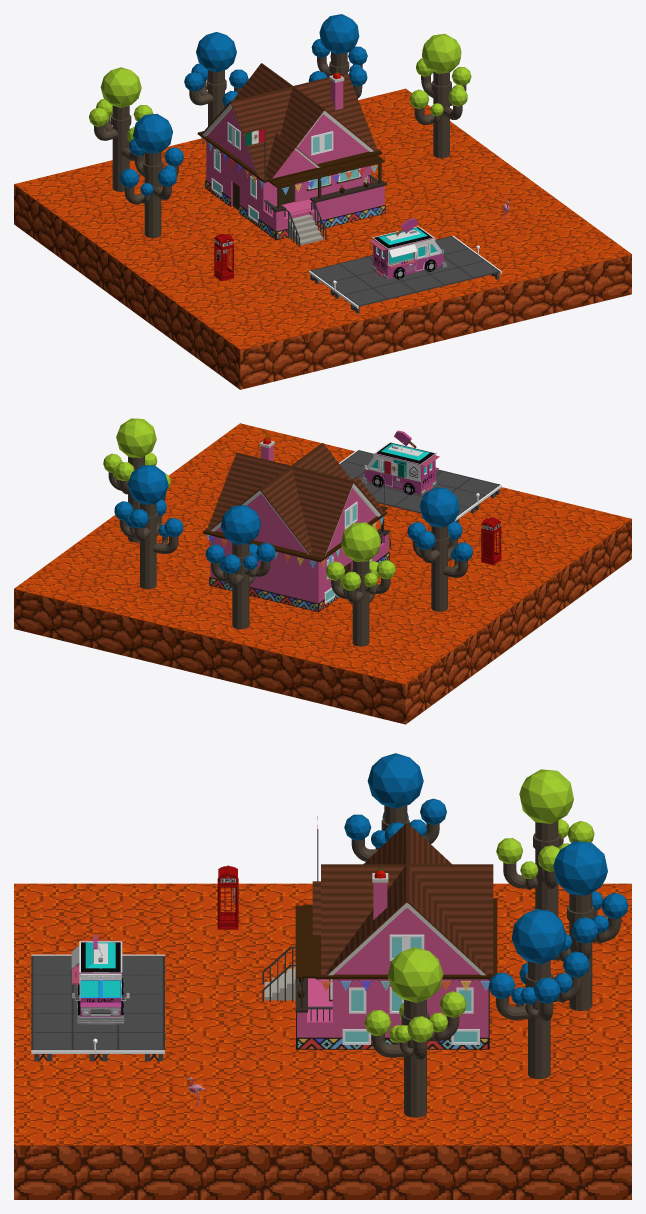
The picture shows the model from 3 angles, top to bottom: view 1: azimuth 30°, elevation 25°; view 2: azimuth 150°, elevation 25°; view 3: azimuth 270°, elevation 25°; orthographic projection. The views are drawn at different scales.
Visible parts, largest first — view 1: Cube.001, Cube.1005, VEHICLES_ICE_CREAM_TRUCK, OBJRANDOM_PHONEBOOTH; view 2: Cube.001, Cube.1005, VEHICLES_ICE_CREAM_TRUCK, OBJRANDOM_PHONEBOOTH; view 3: Cube.001, Cube.1005, VEHICLES_ICE_CREAM_TRUCK, OBJRANDOM_PHONEBOOTH.
Part boxes in pixels (bbox=[...]): Cube.001: bbox=[14, 14, 631, 389]; Cube.1005: bbox=[197, 63, 387, 246]; VEHICLES_ICE_CREAM_TRUCK: bbox=[369, 218, 447, 279]; OBJRANDOM_PHONEBOOTH: bbox=[213, 234, 233, 281]; Cube.001: bbox=[14, 418, 631, 724]; Cube.1005: bbox=[202, 433, 404, 612]; VEHICLES_ICE_CREAM_TRUCK: bbox=[361, 430, 439, 494]; OBJRANDOM_PHONEBOOTH: bbox=[481, 517, 501, 565]; Cube.001: bbox=[14, 753, 631, 1199]; Cube.1005: bbox=[262, 816, 497, 1049]; VEHICLES_ICE_CREAM_TRUCK: bbox=[71, 934, 129, 1024]; OBJRANDOM_PHONEBOOTH: bbox=[217, 865, 238, 929].
Bounding box in the file's own units: 4000 × 1709 × 4000.
88 materials, 6 textured.
